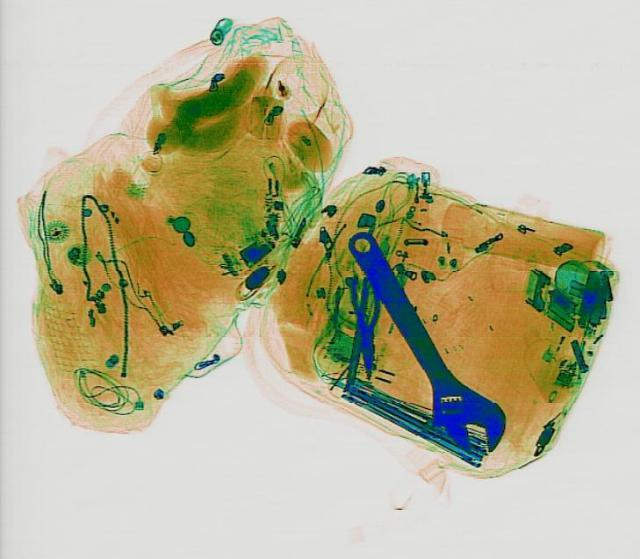Pliers: (346, 274, 382, 379)
Wrench: (320, 217, 520, 464)
